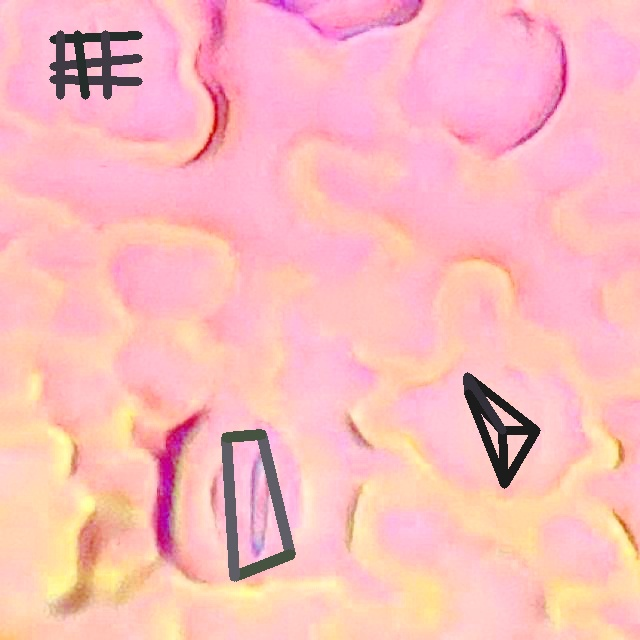close: (464, 373, 539, 487), (49, 30, 142, 99)
open: (222, 429, 295, 580)
